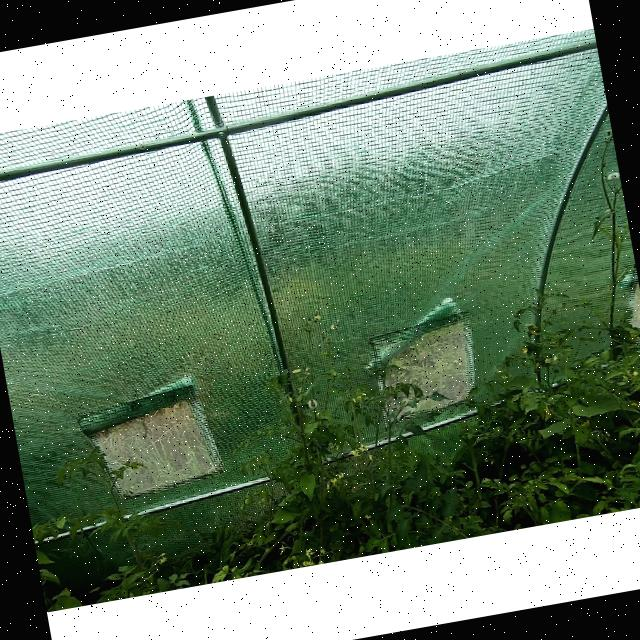Flowers: (541, 404, 554, 422), (325, 476, 338, 488), (346, 447, 360, 458), (278, 542, 290, 554), (527, 324, 539, 336), (304, 546, 314, 558), (302, 558, 314, 566), (358, 442, 367, 452), (351, 395, 362, 403), (317, 546, 327, 554), (520, 346, 530, 354), (542, 355, 552, 363), (290, 368, 303, 374), (362, 512, 371, 520), (336, 472, 344, 480), (286, 394, 292, 403), (305, 366, 310, 376), (316, 558, 324, 564), (554, 355, 560, 362), (298, 386, 302, 394), (360, 392, 367, 396)
